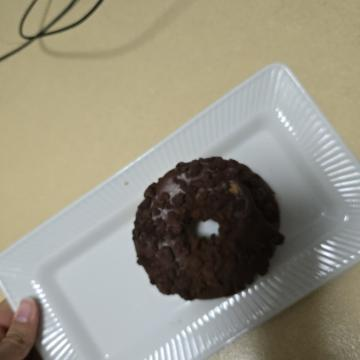doughnut: (140, 67, 318, 236)
